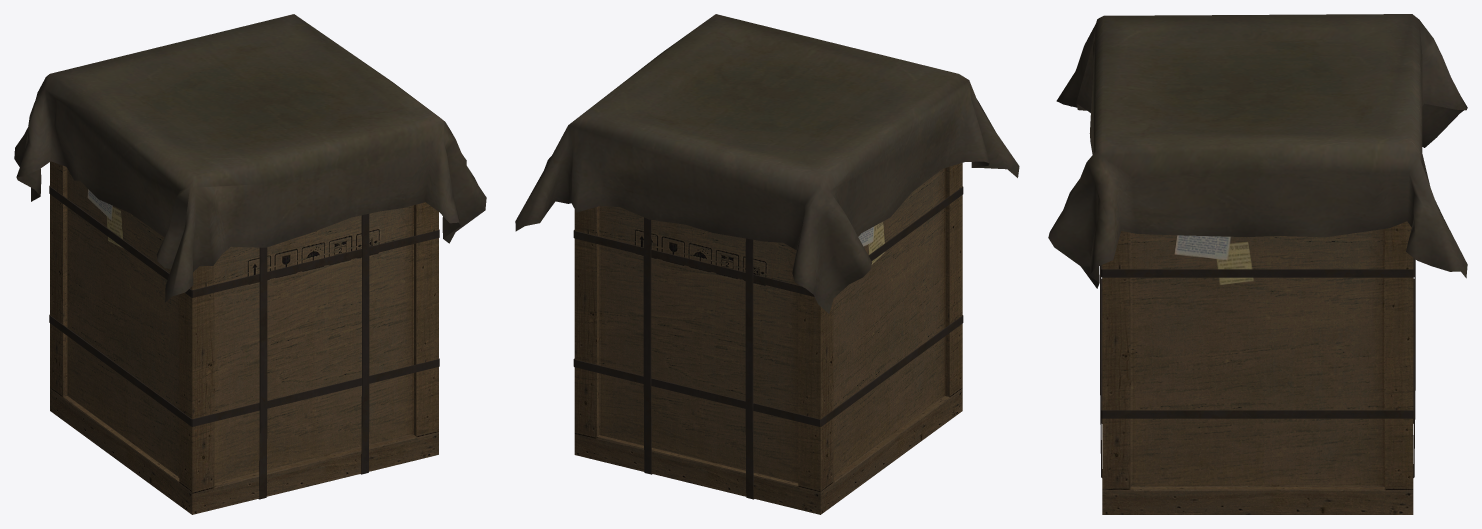
The model's file is wooden_crate_hx_1_2.dae.
The picture shows the model from 3 angles, left to right: view 1: azimuth 30°, elevation 25°; view 2: azimuth 150°, elevation 25°; view 3: azimuth 270°, elevation 25°; orthographic projection. The views are drawn at different scales.
Visible parts, largest first — view 1: wooden_crate_hx_1_2; view 2: wooden_crate_hx_1_2; view 3: wooden_crate_hx_1_2.
Part boxes in pixels (<box>): wooden_crate_hx_1_2: <box>14,14,486,514</box>; wooden_crate_hx_1_2: <box>515,14,1019,514</box>; wooden_crate_hx_1_2: <box>1048,14,1467,514</box>.
Bounding box in the file's own units: 1.89 × 1.89 × 1.84.
Materials: 3 (3 with a texture image).
